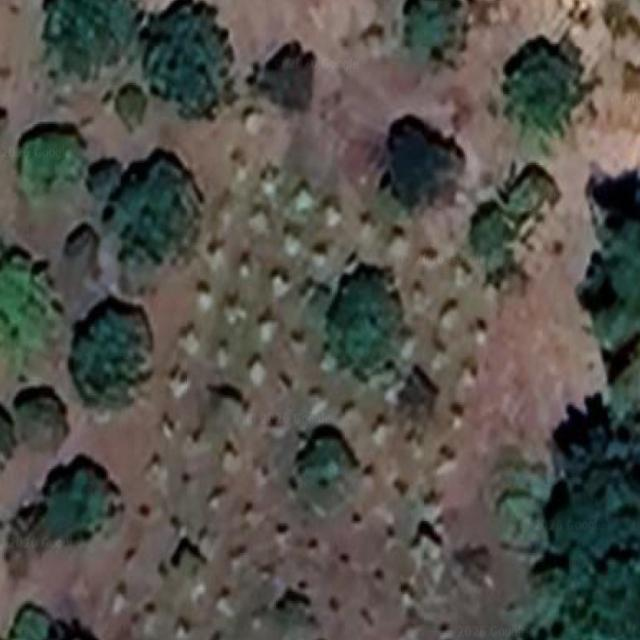Tree: (545, 404, 640, 633), (108, 151, 206, 267), (146, 0, 234, 122), (69, 295, 152, 423), (326, 263, 406, 382), (505, 32, 586, 139), (381, 110, 466, 207), (43, 0, 140, 82), (587, 209, 640, 354), (42, 454, 119, 544), (16, 123, 88, 204), (0, 245, 53, 355), (295, 426, 351, 489), (17, 384, 66, 455), (476, 196, 511, 270), (12, 603, 55, 640), (118, 84, 148, 132)
